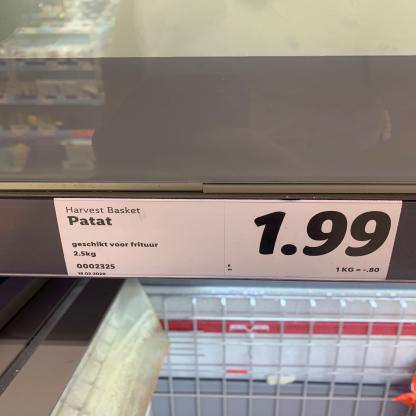prtg: (54, 198, 403, 282)
